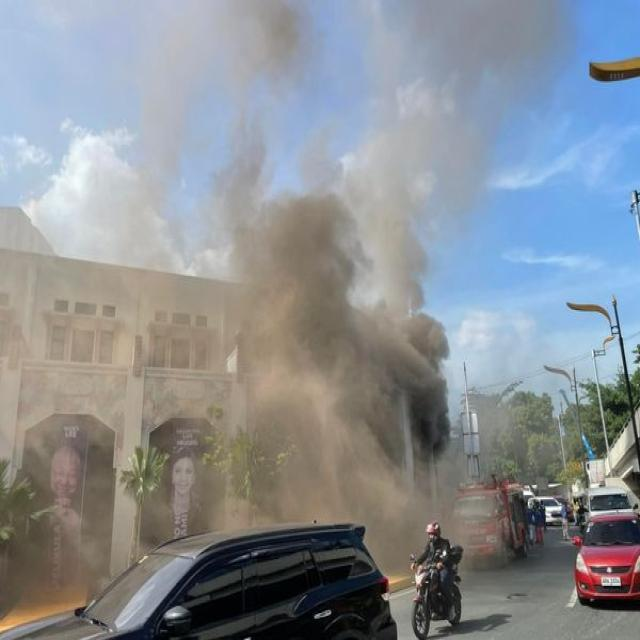Smoke: (237, 203, 452, 500), (340, 4, 476, 292), (207, 12, 304, 254)
